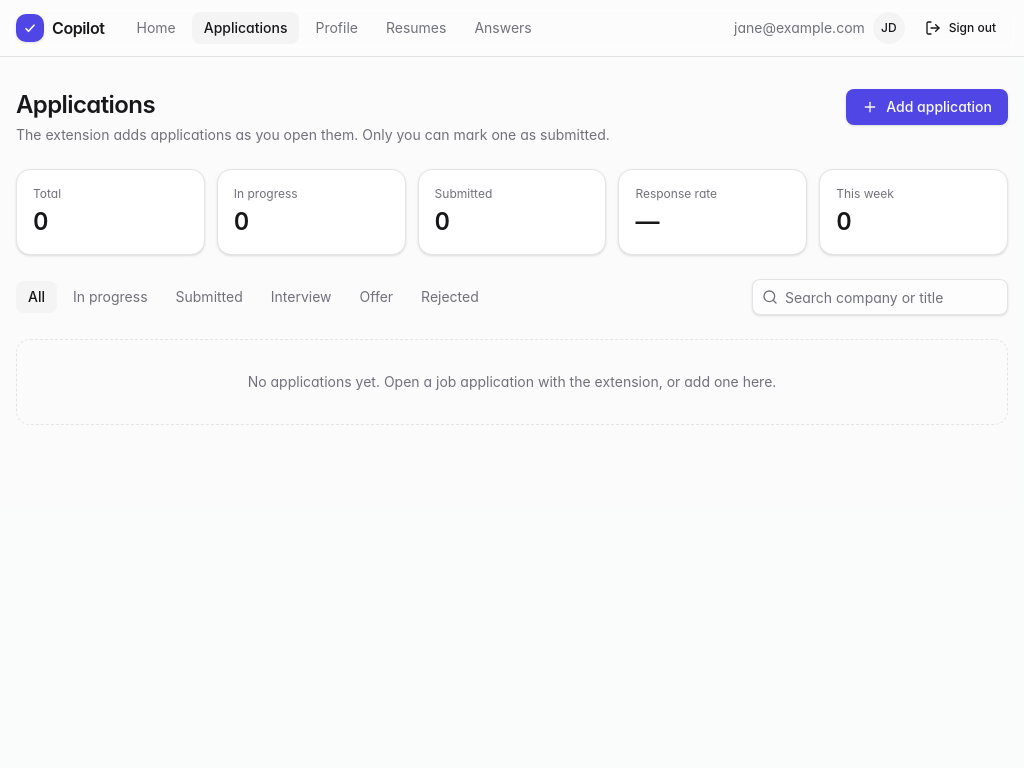
Test: applications tracker › adds an application manually
Check: the text "No applications yet" is shown, box left=248, top=373, right=776, bottom=390
Click the button "Add application". click: point(927, 107)
box: left=846, top=89, right=1008, bottom=125
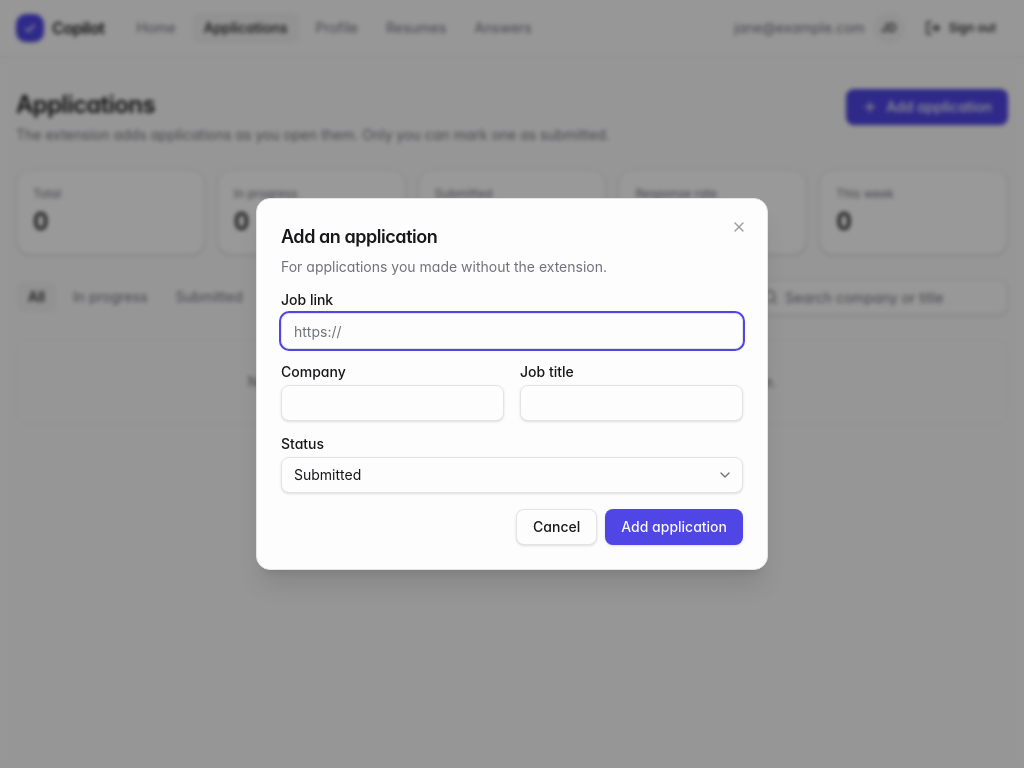
Type "https://jobs.lever.co/globex/1" into the field labelled "Job link". click: point(512, 331)
box: left=281, top=313, right=743, bottom=349
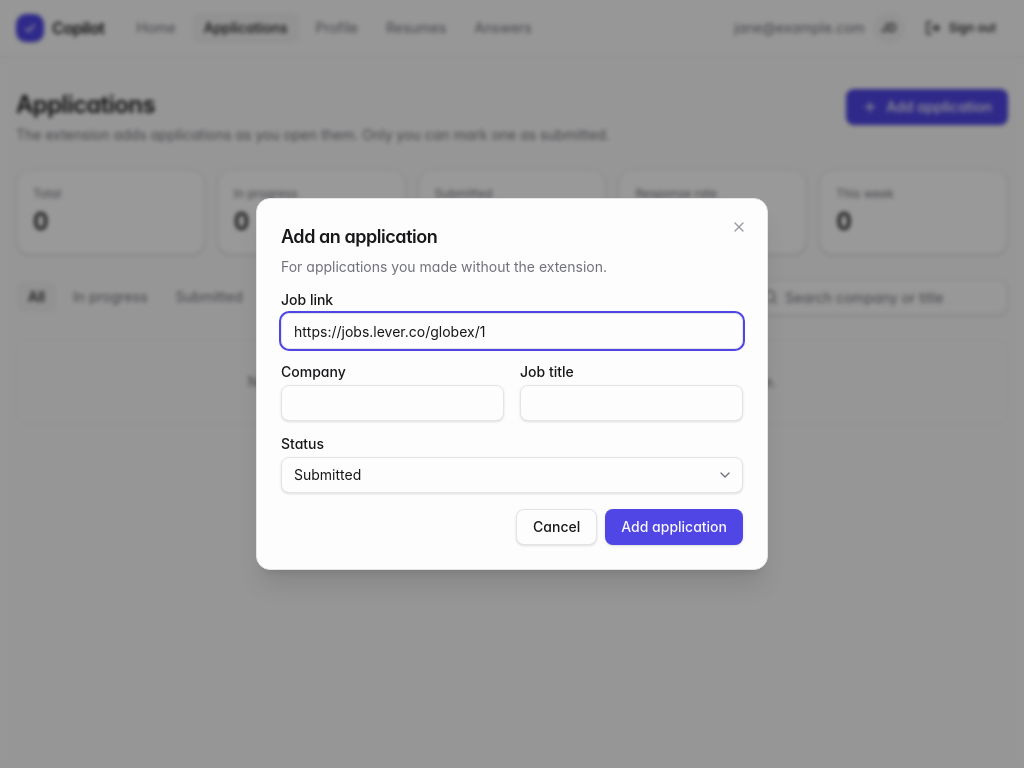
Type "Globex" into the field labelled "Company". click: point(392, 403)
box: left=281, top=385, right=504, bottom=421
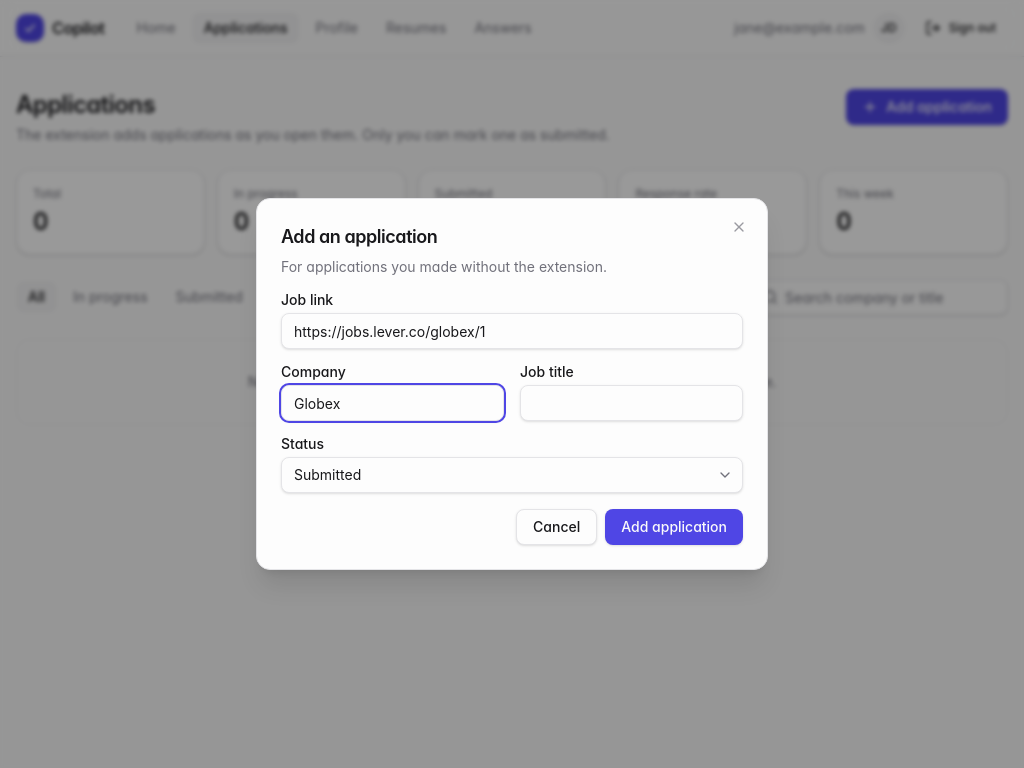
Click the button "Add application". click: point(674, 527)
box: left=605, top=509, right=743, bottom=545
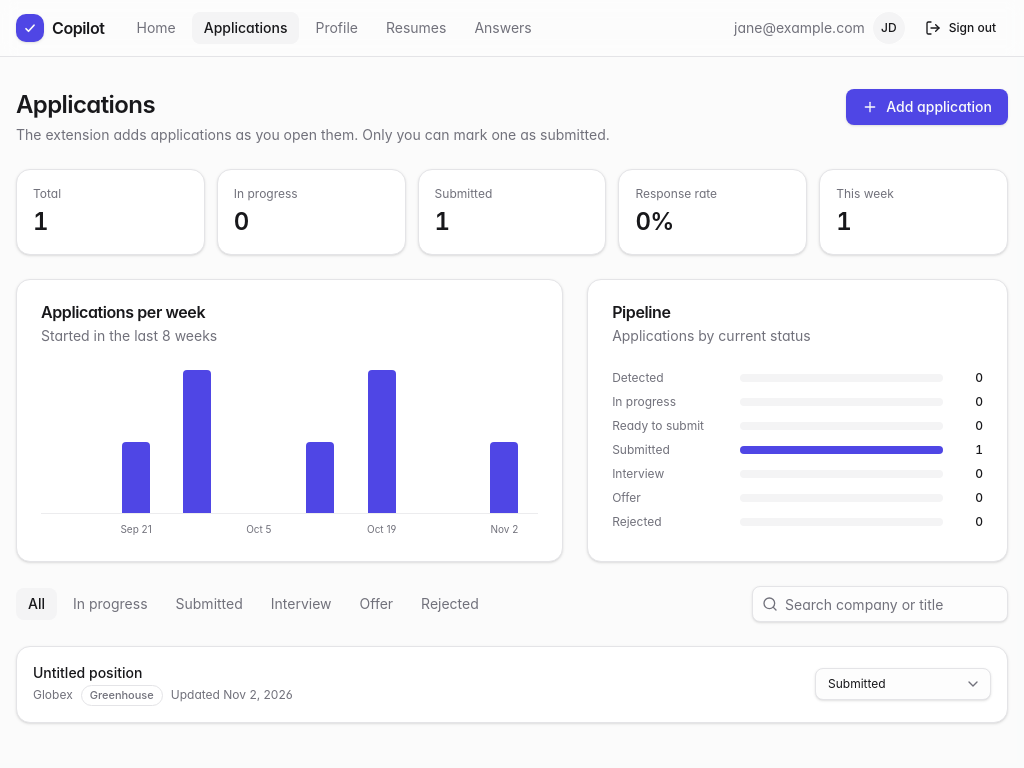
Check: the text "Untitled position" is shown, box left=33, top=664, right=142, bottom=681
